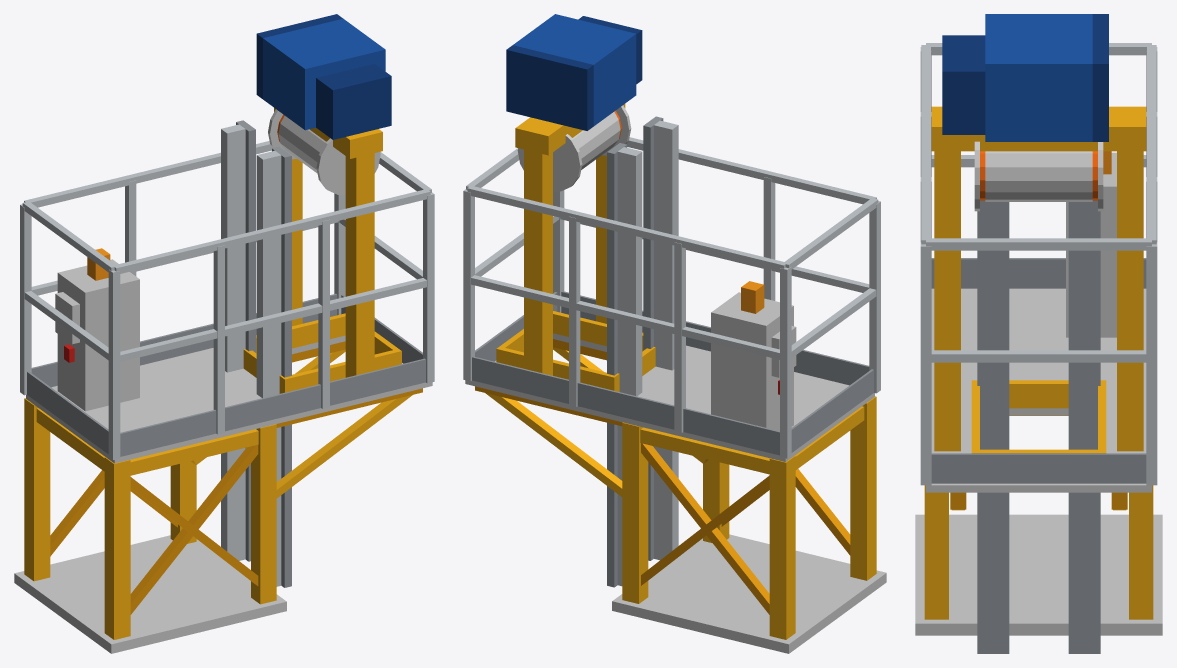
Rendered from body.obj.
3 views of the same model, side by side, from view 1: azimuth 30°, elevation 25°; view 2: azimuth 150°, elevation 25°; view 3: azimuth 270°, elevation 25° (orthographic). The views are drawn at different scales.
Size of the model in its own units: 1.78 by 2.67 by 0.92.
